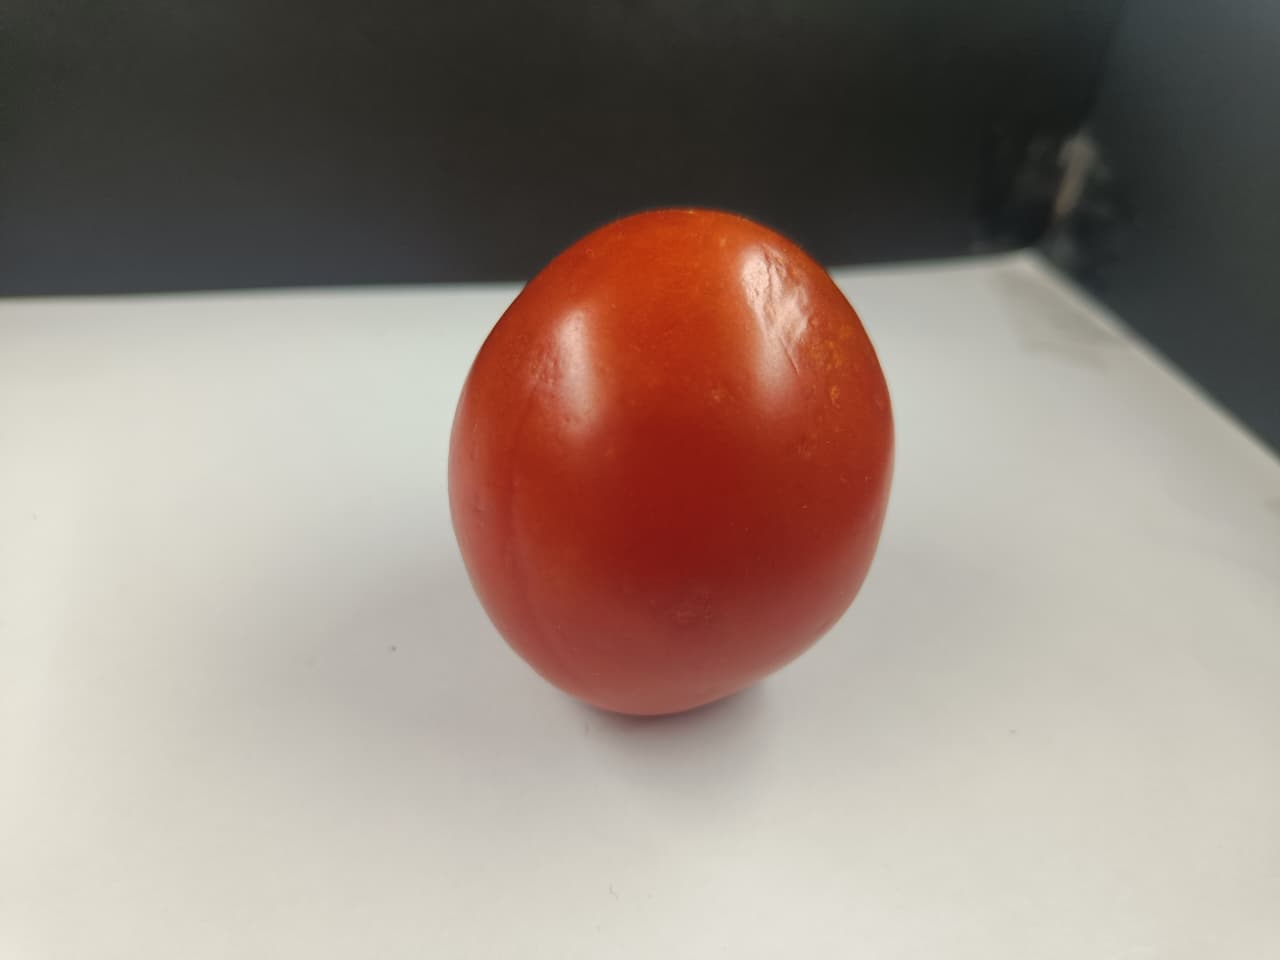ripe: (435, 215, 897, 720)
